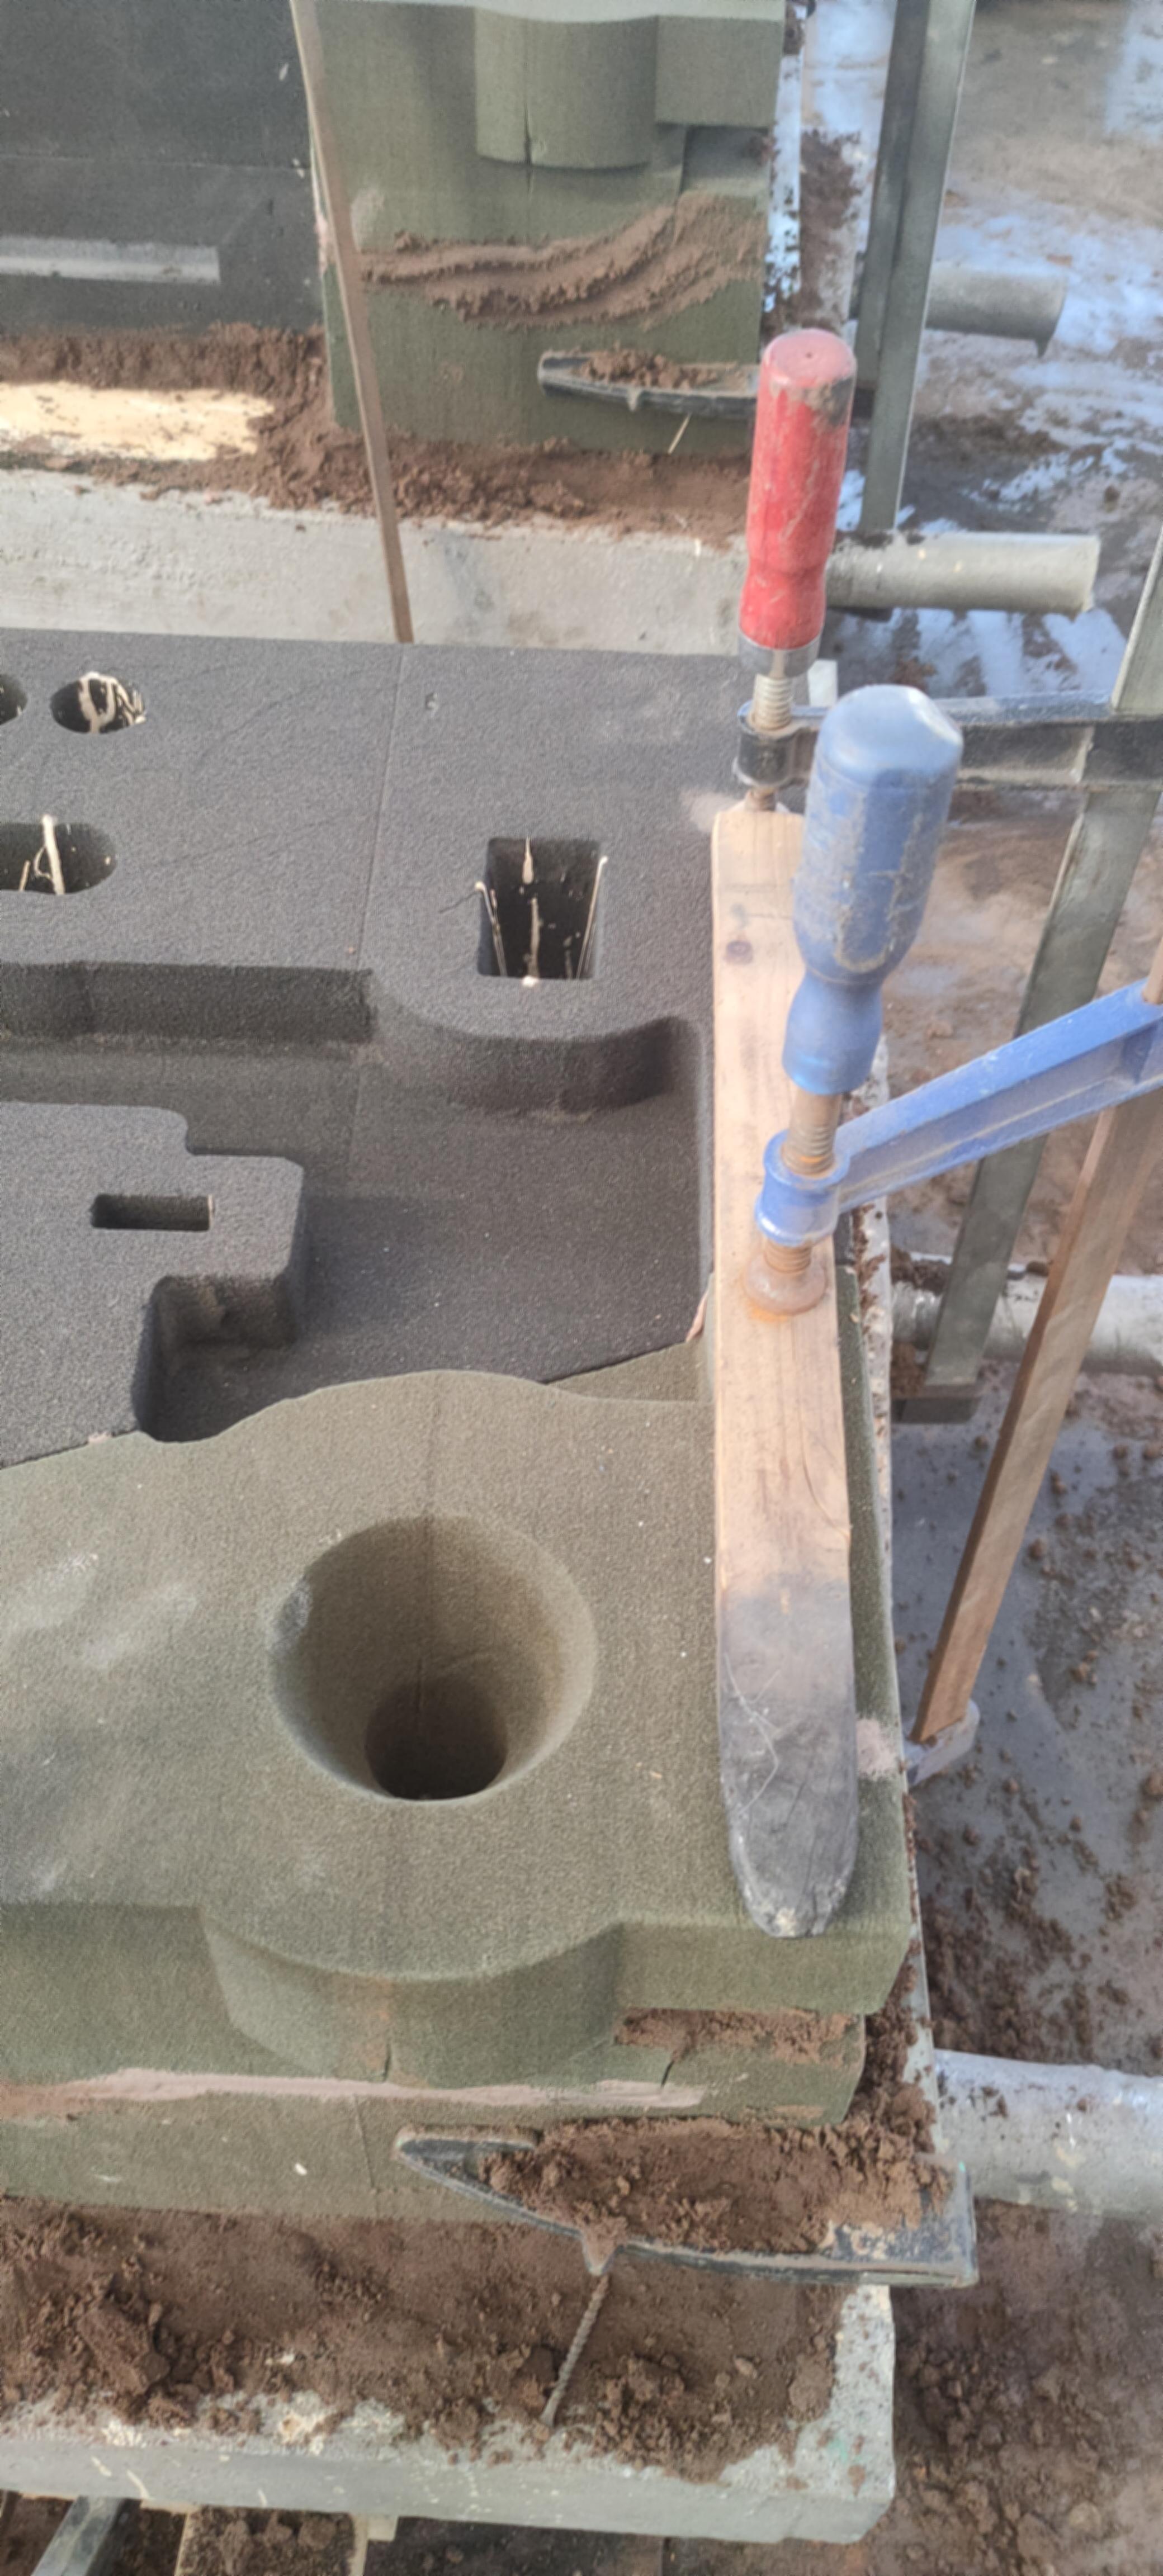pouring hole: (260, 1513, 595, 1802)
